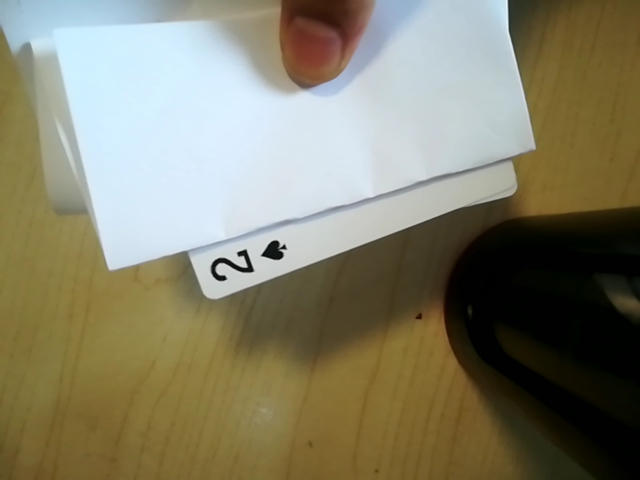ht 2: (196, 224, 311, 293)
